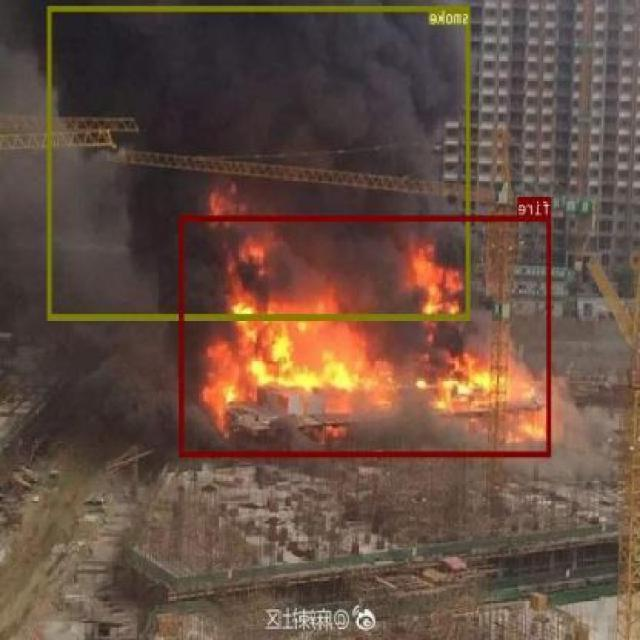Fire: (180, 214, 552, 456)
Smoke: (49, 4, 472, 318)
